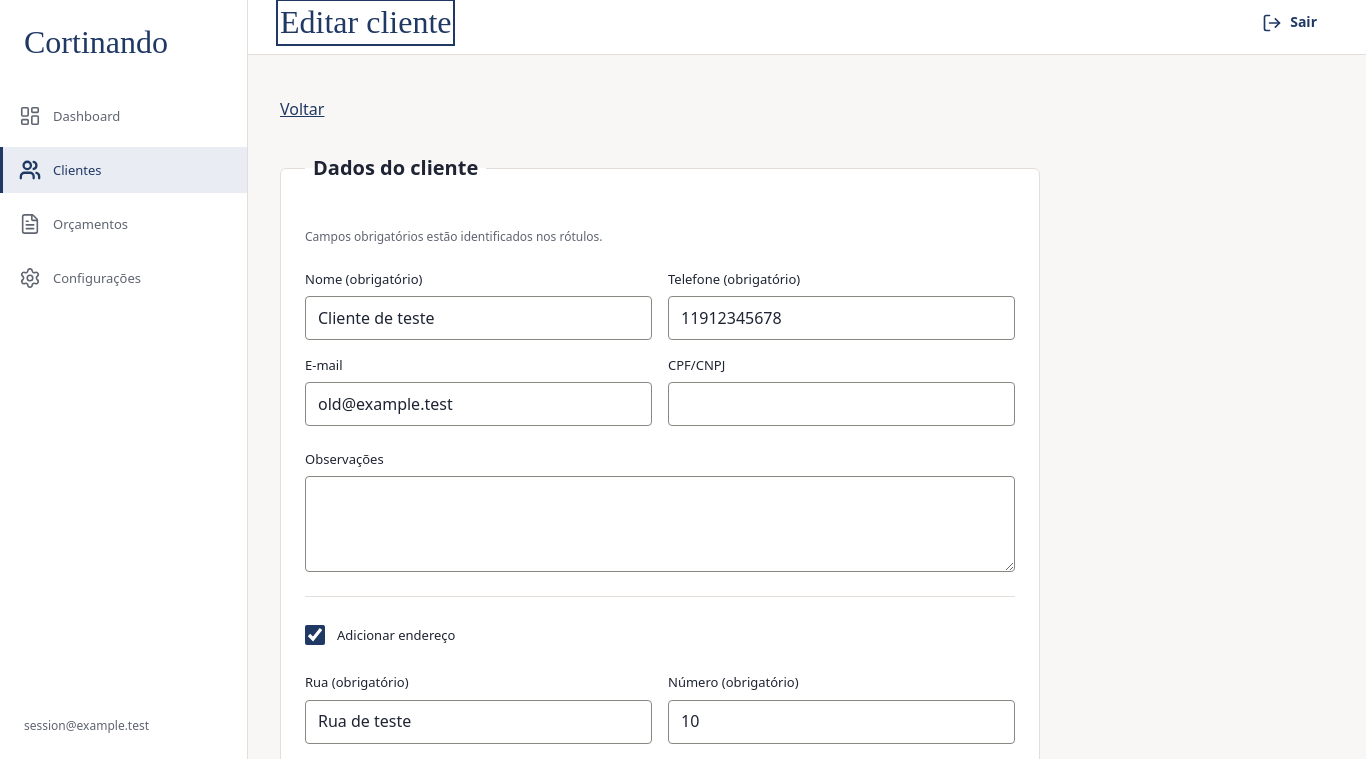
Scenario: clearing optional fields sends null and editing one address field sends the full block
The width and height of the screenshot is (1366, 759).
Expected: the field labelled "Nome (obrigatório)" is shown, x1=305 y1=296 x2=652 y2=340
Clear the field labelled "E-mail": (478, 404) x1=305 y1=382 x2=652 y2=426
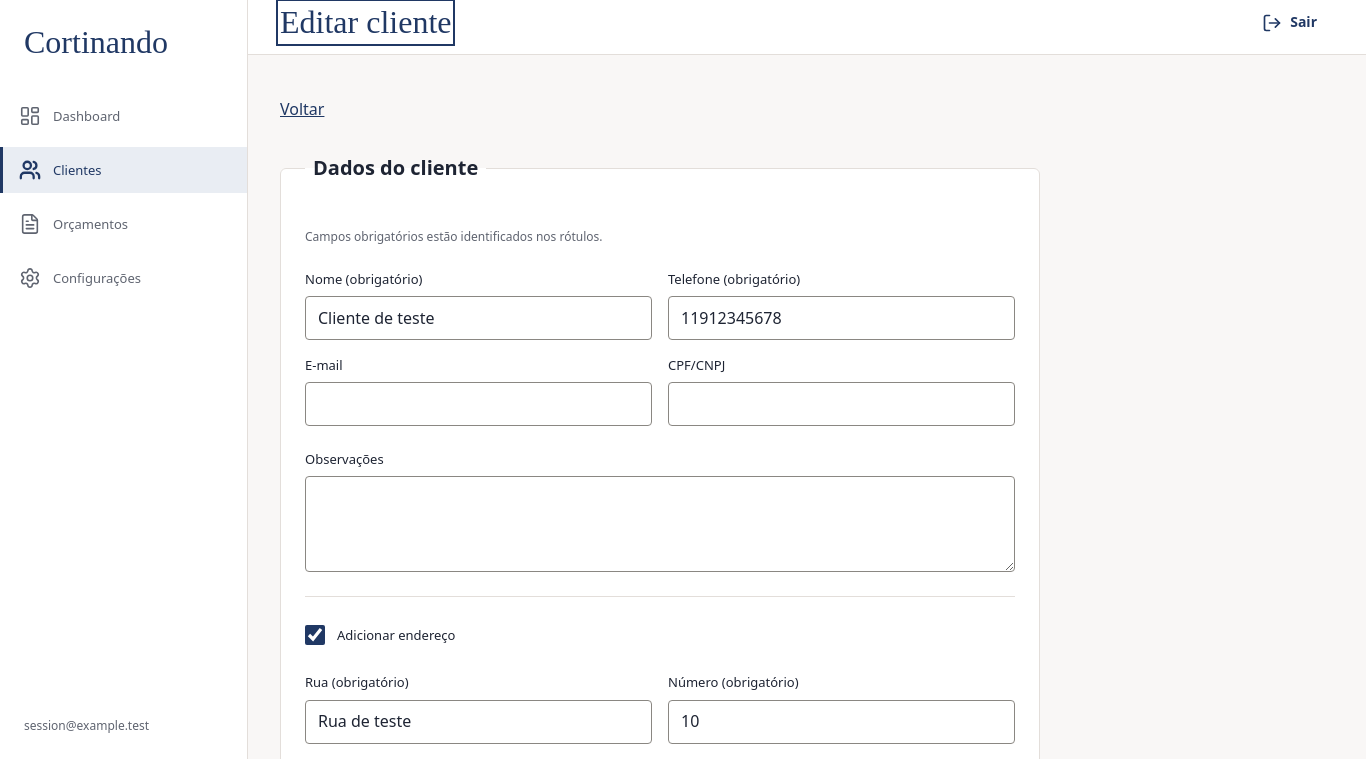
Replace the text in the field labelled "Número (obrigatório)" with "123A": (842, 722) x1=668 y1=700 x2=1015 y2=744
(page scrolled)
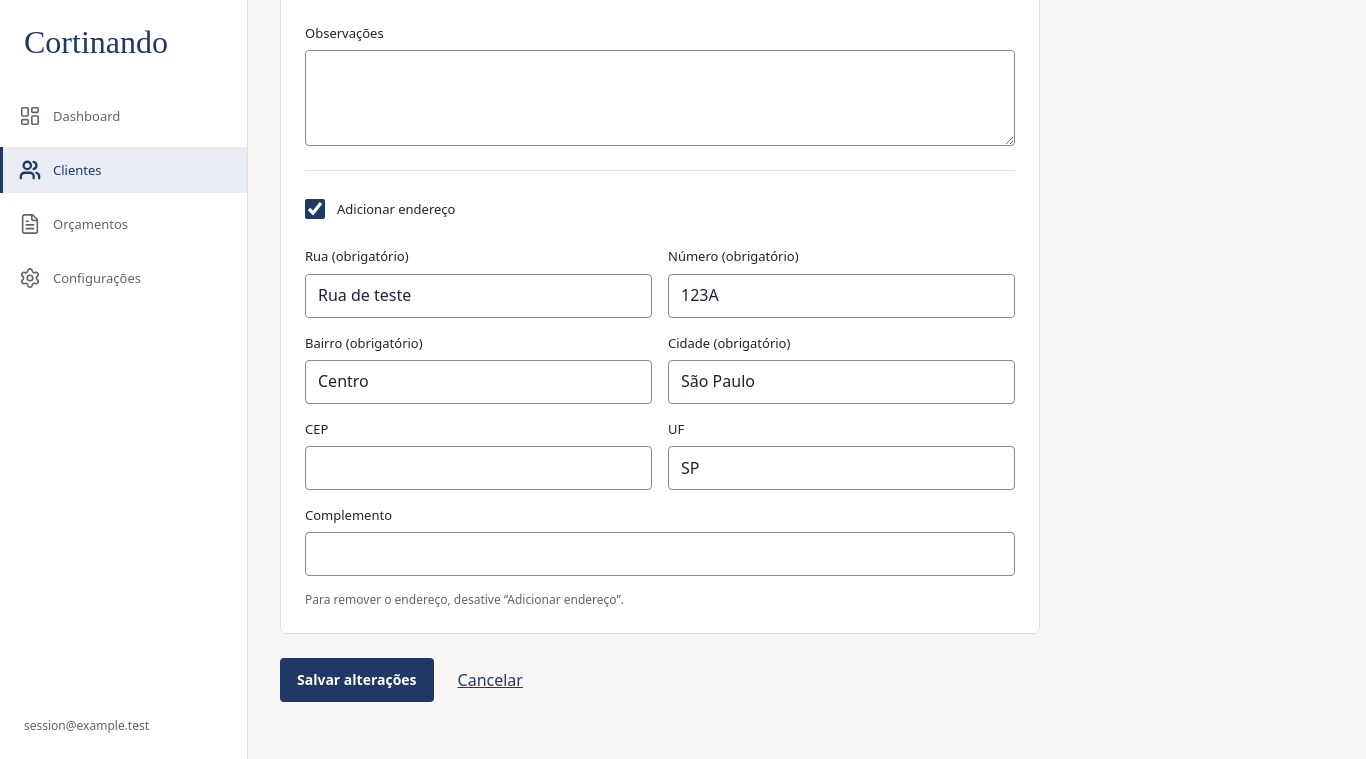
Click the button "Salvar alterações": (357, 680) x1=280 y1=658 x2=434 y2=702
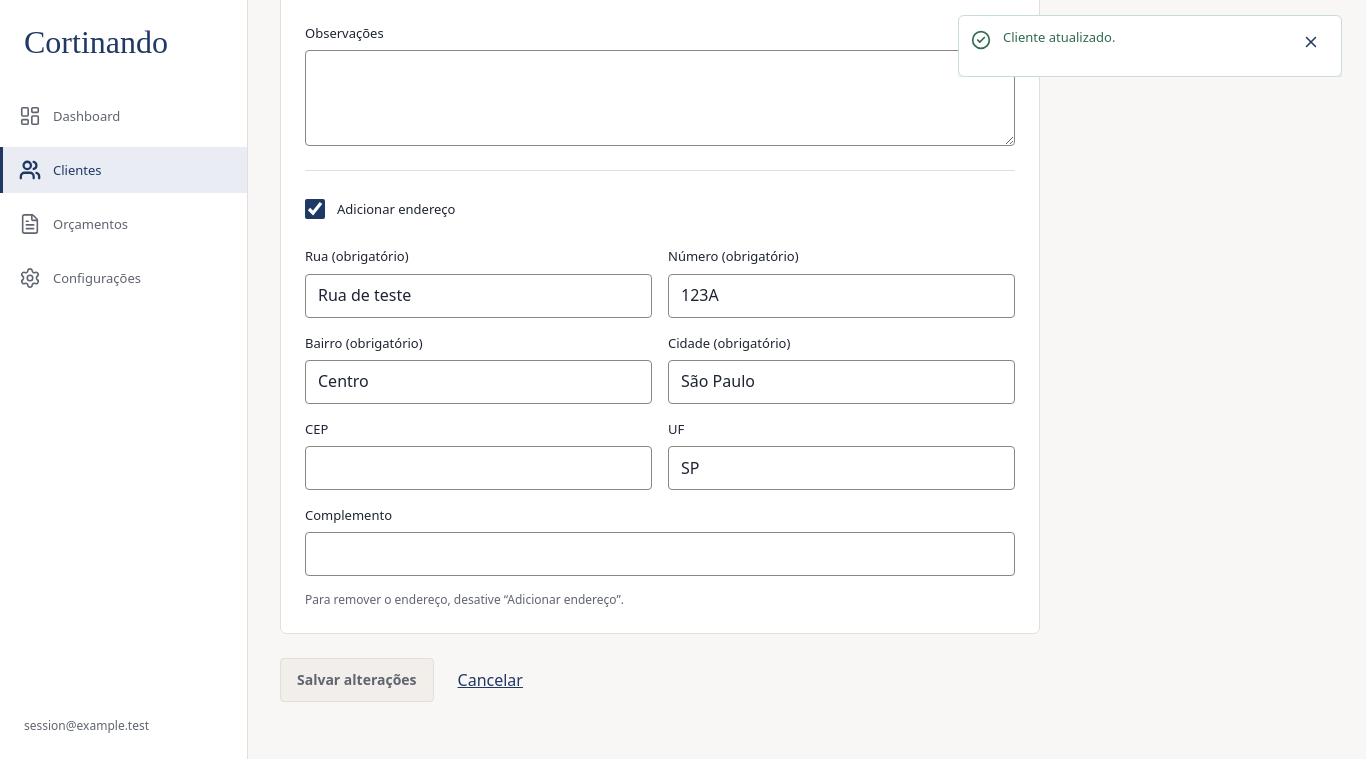
Now the text "Cliente atualizado." is shown, box x1=1003 y1=28 x2=1116 y2=46
